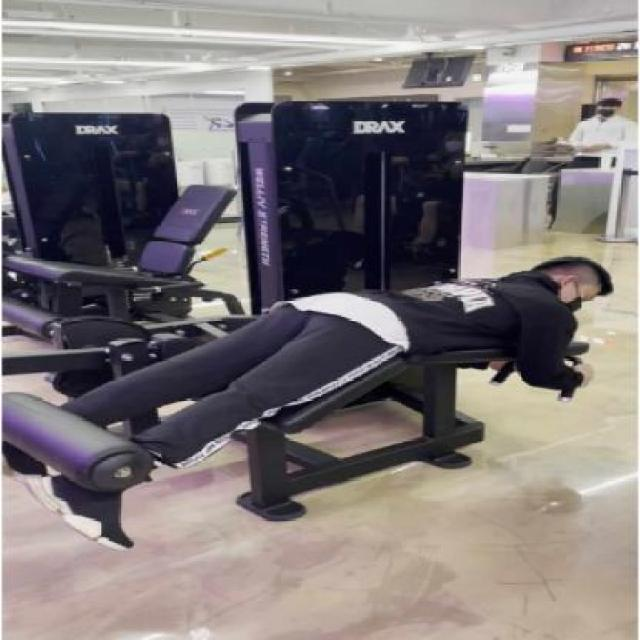reg curl machine: (0, 92, 629, 558)
